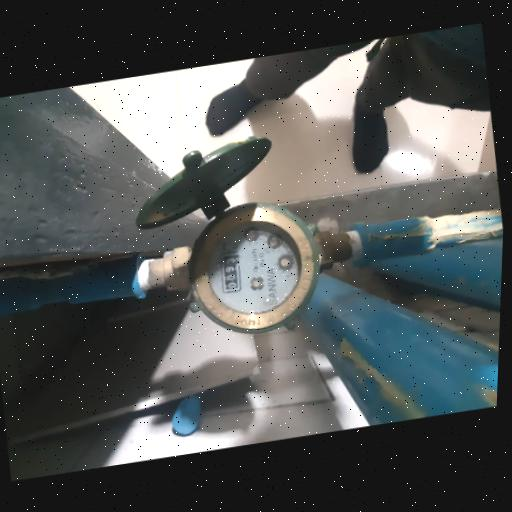0: (225, 280, 239, 291), (224, 273, 238, 283)
3: (223, 253, 240, 266)
9: (223, 263, 237, 275)
border_water_meter_number: (217, 250, 244, 294)
